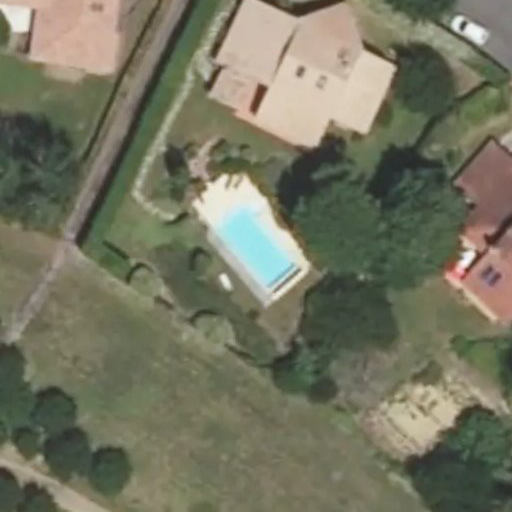pool: (214, 225, 308, 255)
